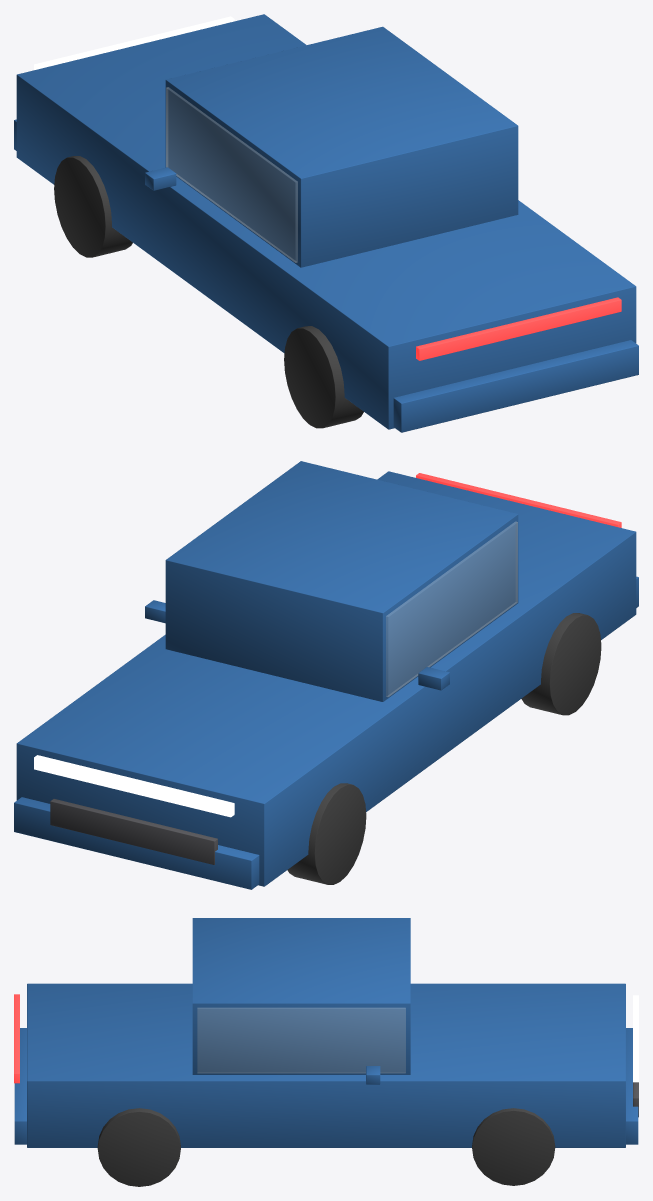
File: vehicle.glb
3 views of the same model, one above another, from view 1: azimuth 30°, elevation 25°; view 2: azimuth 150°, elevation 25°; view 3: azimuth 270°, elevation 25° (orthographic). The views are drawn at different scales.
Visible parts, largest first — view 1: BODY_Main, BODY_Roof, GLASS_Greenhouse, BODY_Bumpers_Rear, WHEEL_RR_Tire, WHEEL_FR_Tire, LIGHT_Taillights, LIGHT_Headlights, BODY_Mirror_R; view 2: BODY_Main, BODY_Roof, GLASS_Greenhouse, BODY_Bumpers_Front, WHEEL_RR_Tire, WHEEL_FR_Tire, BODY_Grille, LIGHT_Headlights, LIGHT_Taillights; view 3: BODY_Main, BODY_Roof, GLASS_Greenhouse, WHEEL_RL_Tire, WHEEL_FL_Tire, BODY_Bumpers_Rear, BODY_Bumpers_Front, LIGHT_Taillights, LIGHT_Headlights.
Boxes of the visible parts, x1,y1,x2,y2 form: BODY_Main: [16, 14, 636, 429]; BODY_Roof: [165, 26, 518, 267]; GLASS_Greenhouse: [166, 87, 297, 262]; BODY_Bumpers_Rear: [393, 340, 638, 432]; WHEEL_RR_Tire: [284, 326, 363, 428]; WHEEL_FR_Tire: [54, 156, 132, 257]; LIGHT_Taillights: [416, 297, 621, 360]; LIGHT_Headlights: [34, 16, 234, 70]; BODY_Mirror_R: [145, 167, 176, 190]; BODY_Main: [16, 471, 636, 886]; BODY_Roof: [165, 461, 518, 701]; GLASS_Greenhouse: [386, 521, 517, 696]; BODY_Bumpers_Front: [14, 797, 259, 889]; WHEEL_RR_Tire: [521, 613, 601, 715]; WHEEL_FR_Tire: [287, 783, 366, 884]; BODY_Grille: [50, 799, 217, 864]; LIGHT_Headlights: [34, 755, 234, 817]; LIGHT_Taillights: [416, 473, 621, 527]; BODY_Main: [27, 983, 625, 1147]; BODY_Roof: [192, 918, 410, 1074]; GLASS_Greenhouse: [197, 1008, 405, 1073]; WHEEL_RL_Tire: [97, 1108, 180, 1186]; WHEEL_FL_Tire: [472, 1108, 555, 1185]; BODY_Bumpers_Rear: [14, 1028, 26, 1144]; BODY_Bumpers_Front: [626, 1028, 638, 1144]; LIGHT_Taillights: [14, 994, 19, 1083]; LIGHT_Headlights: [633, 995, 638, 1082].
Bounding box in the file's own units: 2.32 × 1.62 × 5.26.
